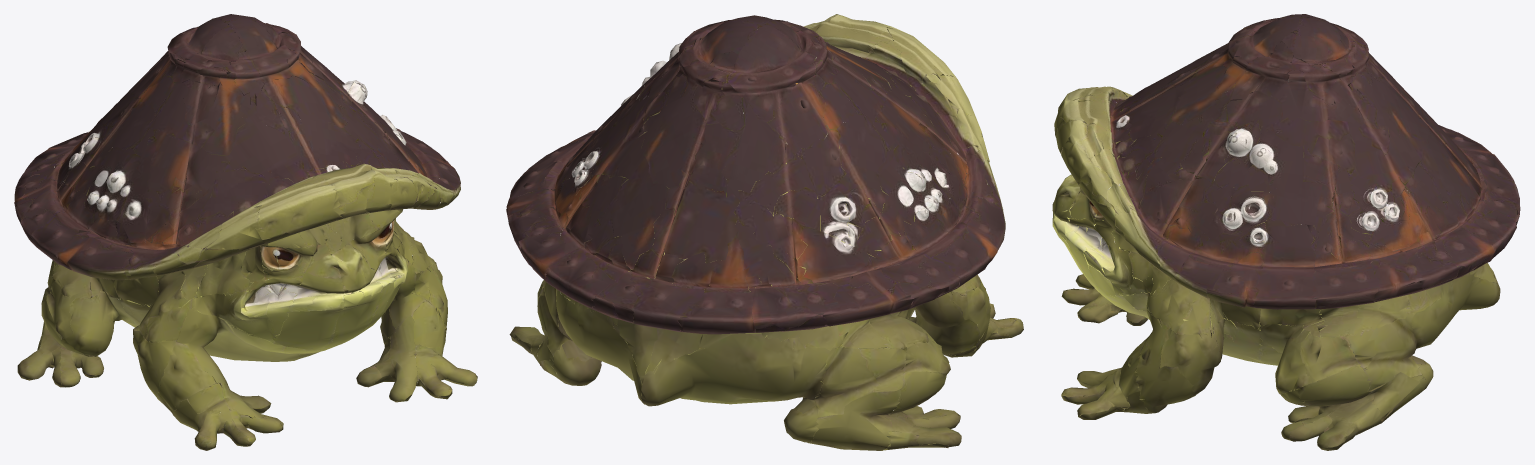
3 views of the same model, side by side, from view 1: azimuth 30°, elevation 25°; view 2: azimuth 150°, elevation 25°; view 3: azimuth 270°, elevation 25° (orthographic). The views are drawn at different scales.
Visible parts, largest first — view 1: Mesh_0; view 2: Mesh_0; view 3: Mesh_0.
Boxes of the visible parts, x1,y1,x2,y2 form: Mesh_0: (14, 14, 477, 450); Mesh_0: (506, 14, 1023, 450); Mesh_0: (1052, 14, 1520, 450).
Size of the model in its own units: 1.9 by 1.45 by 1.86.
1 material, 1 textured.
